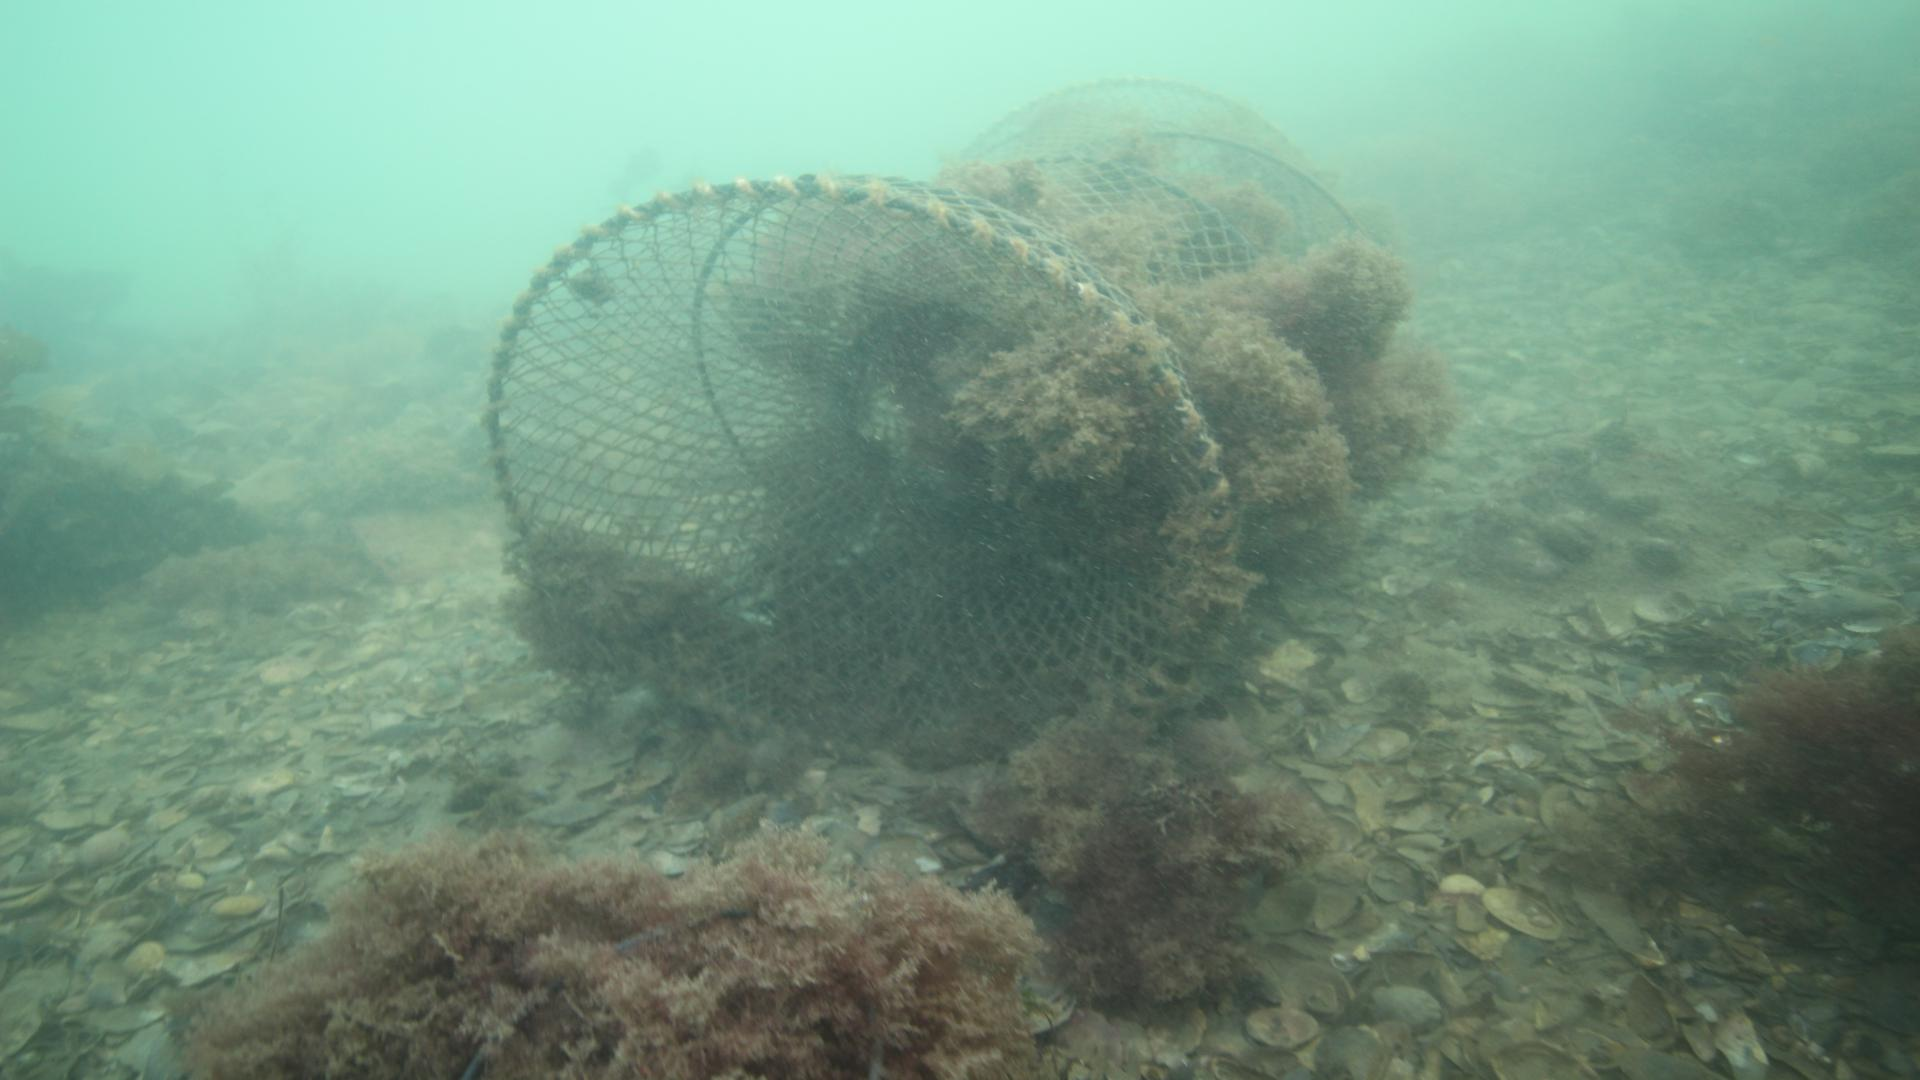spring fish trap: (480, 74, 1370, 770)
